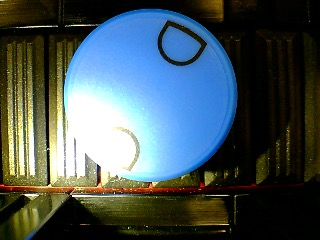MIPO2: (62, 7, 239, 183)
